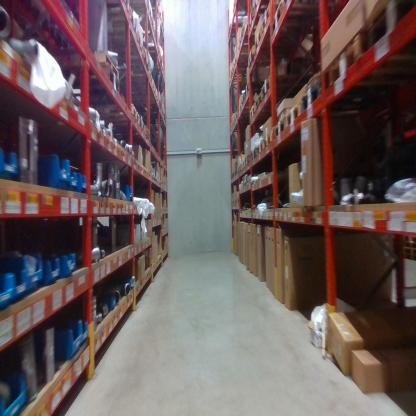pallet: (327, 32, 413, 86), (301, 81, 393, 119), (285, 103, 390, 132), (364, 4, 414, 59), (252, 28, 324, 65), (55, 62, 121, 102), (51, 45, 121, 78), (272, 6, 333, 38), (246, 45, 304, 75), (262, 74, 316, 99), (104, 45, 152, 73), (257, 87, 314, 110), (260, 8, 308, 33), (101, 111, 146, 137), (92, 104, 140, 127), (99, 27, 144, 50), (228, 103, 262, 133), (116, 89, 161, 109), (236, 29, 273, 49), (245, 9, 276, 32), (249, 104, 290, 121), (118, 79, 160, 95), (117, 66, 154, 84), (228, 71, 261, 85), (243, 78, 263, 98), (230, 63, 256, 76), (273, 117, 287, 141), (239, 98, 261, 112), (264, 128, 274, 151), (257, 133, 265, 156), (143, 124, 153, 140), (250, 148, 258, 163), (244, 152, 251, 169), (241, 159, 245, 170)
